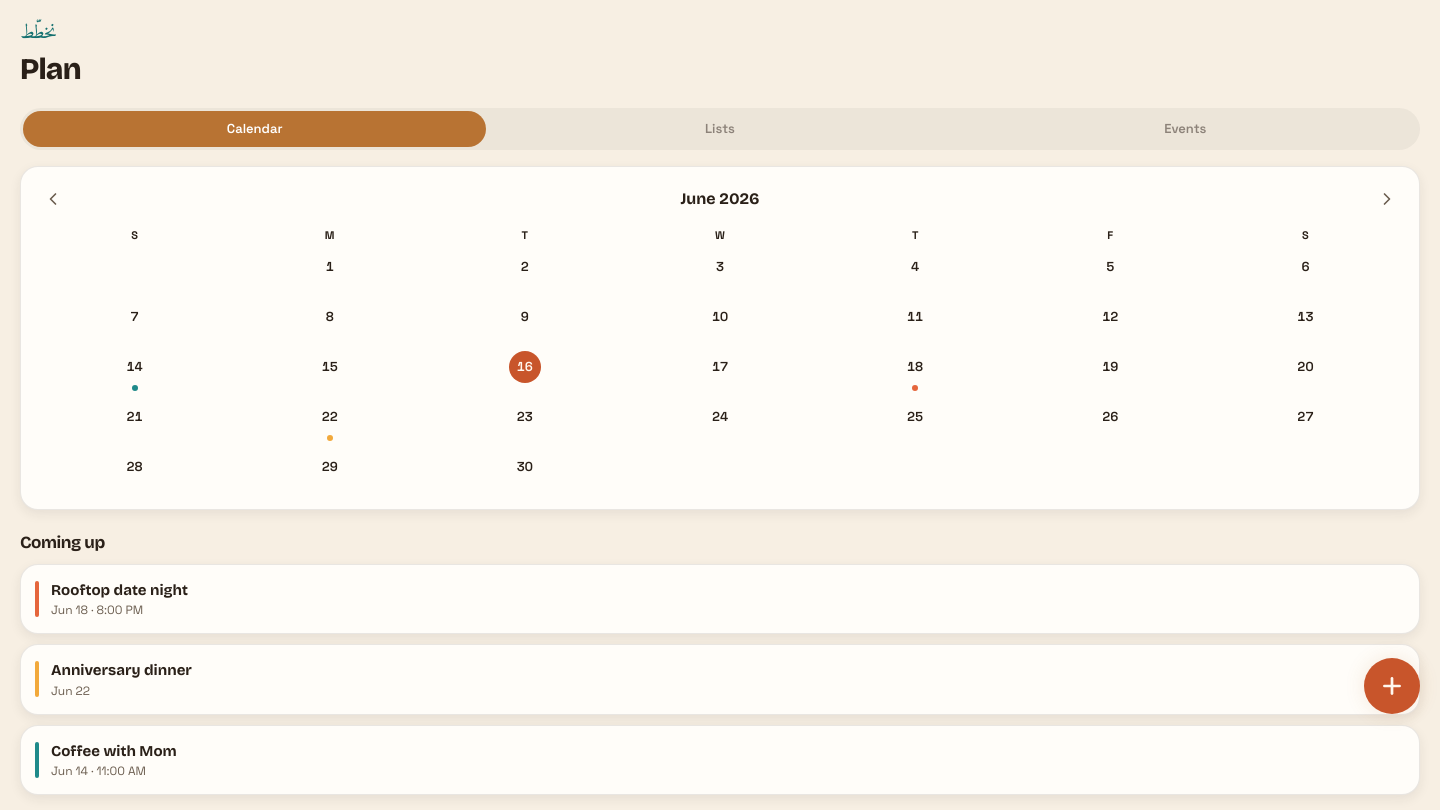
Test case: Calendar tab page — month nav + day detail (PlanView redesign) › interaction › advances to the next month when the Next-month chevron is clicked
The width and height of the screenshot is (1440, 810).
Step 1. Click the button named "Next month" → (1387, 198), box [1371,182,1403,214]
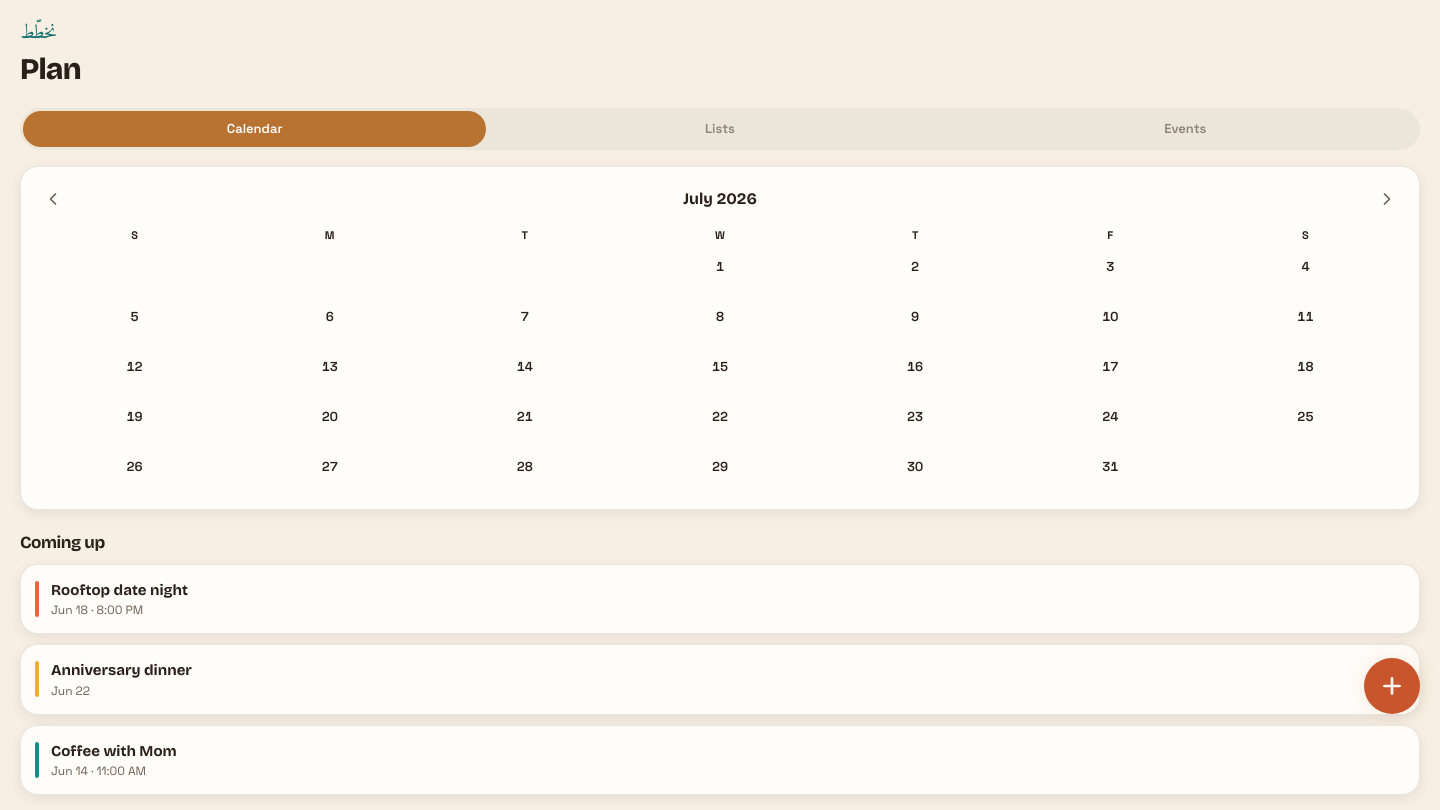
Expected: the button "31" is shown, [1013,449,1208,493]
